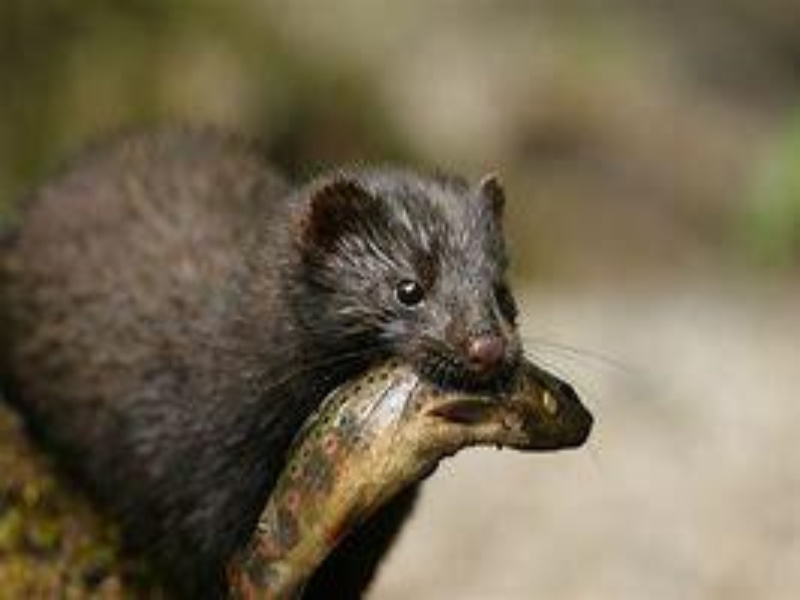minkish: (5, 116, 524, 594)
